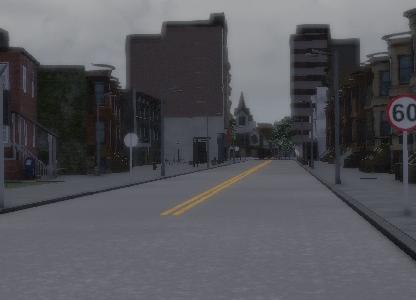Speed_60: (385, 91, 416, 130)
